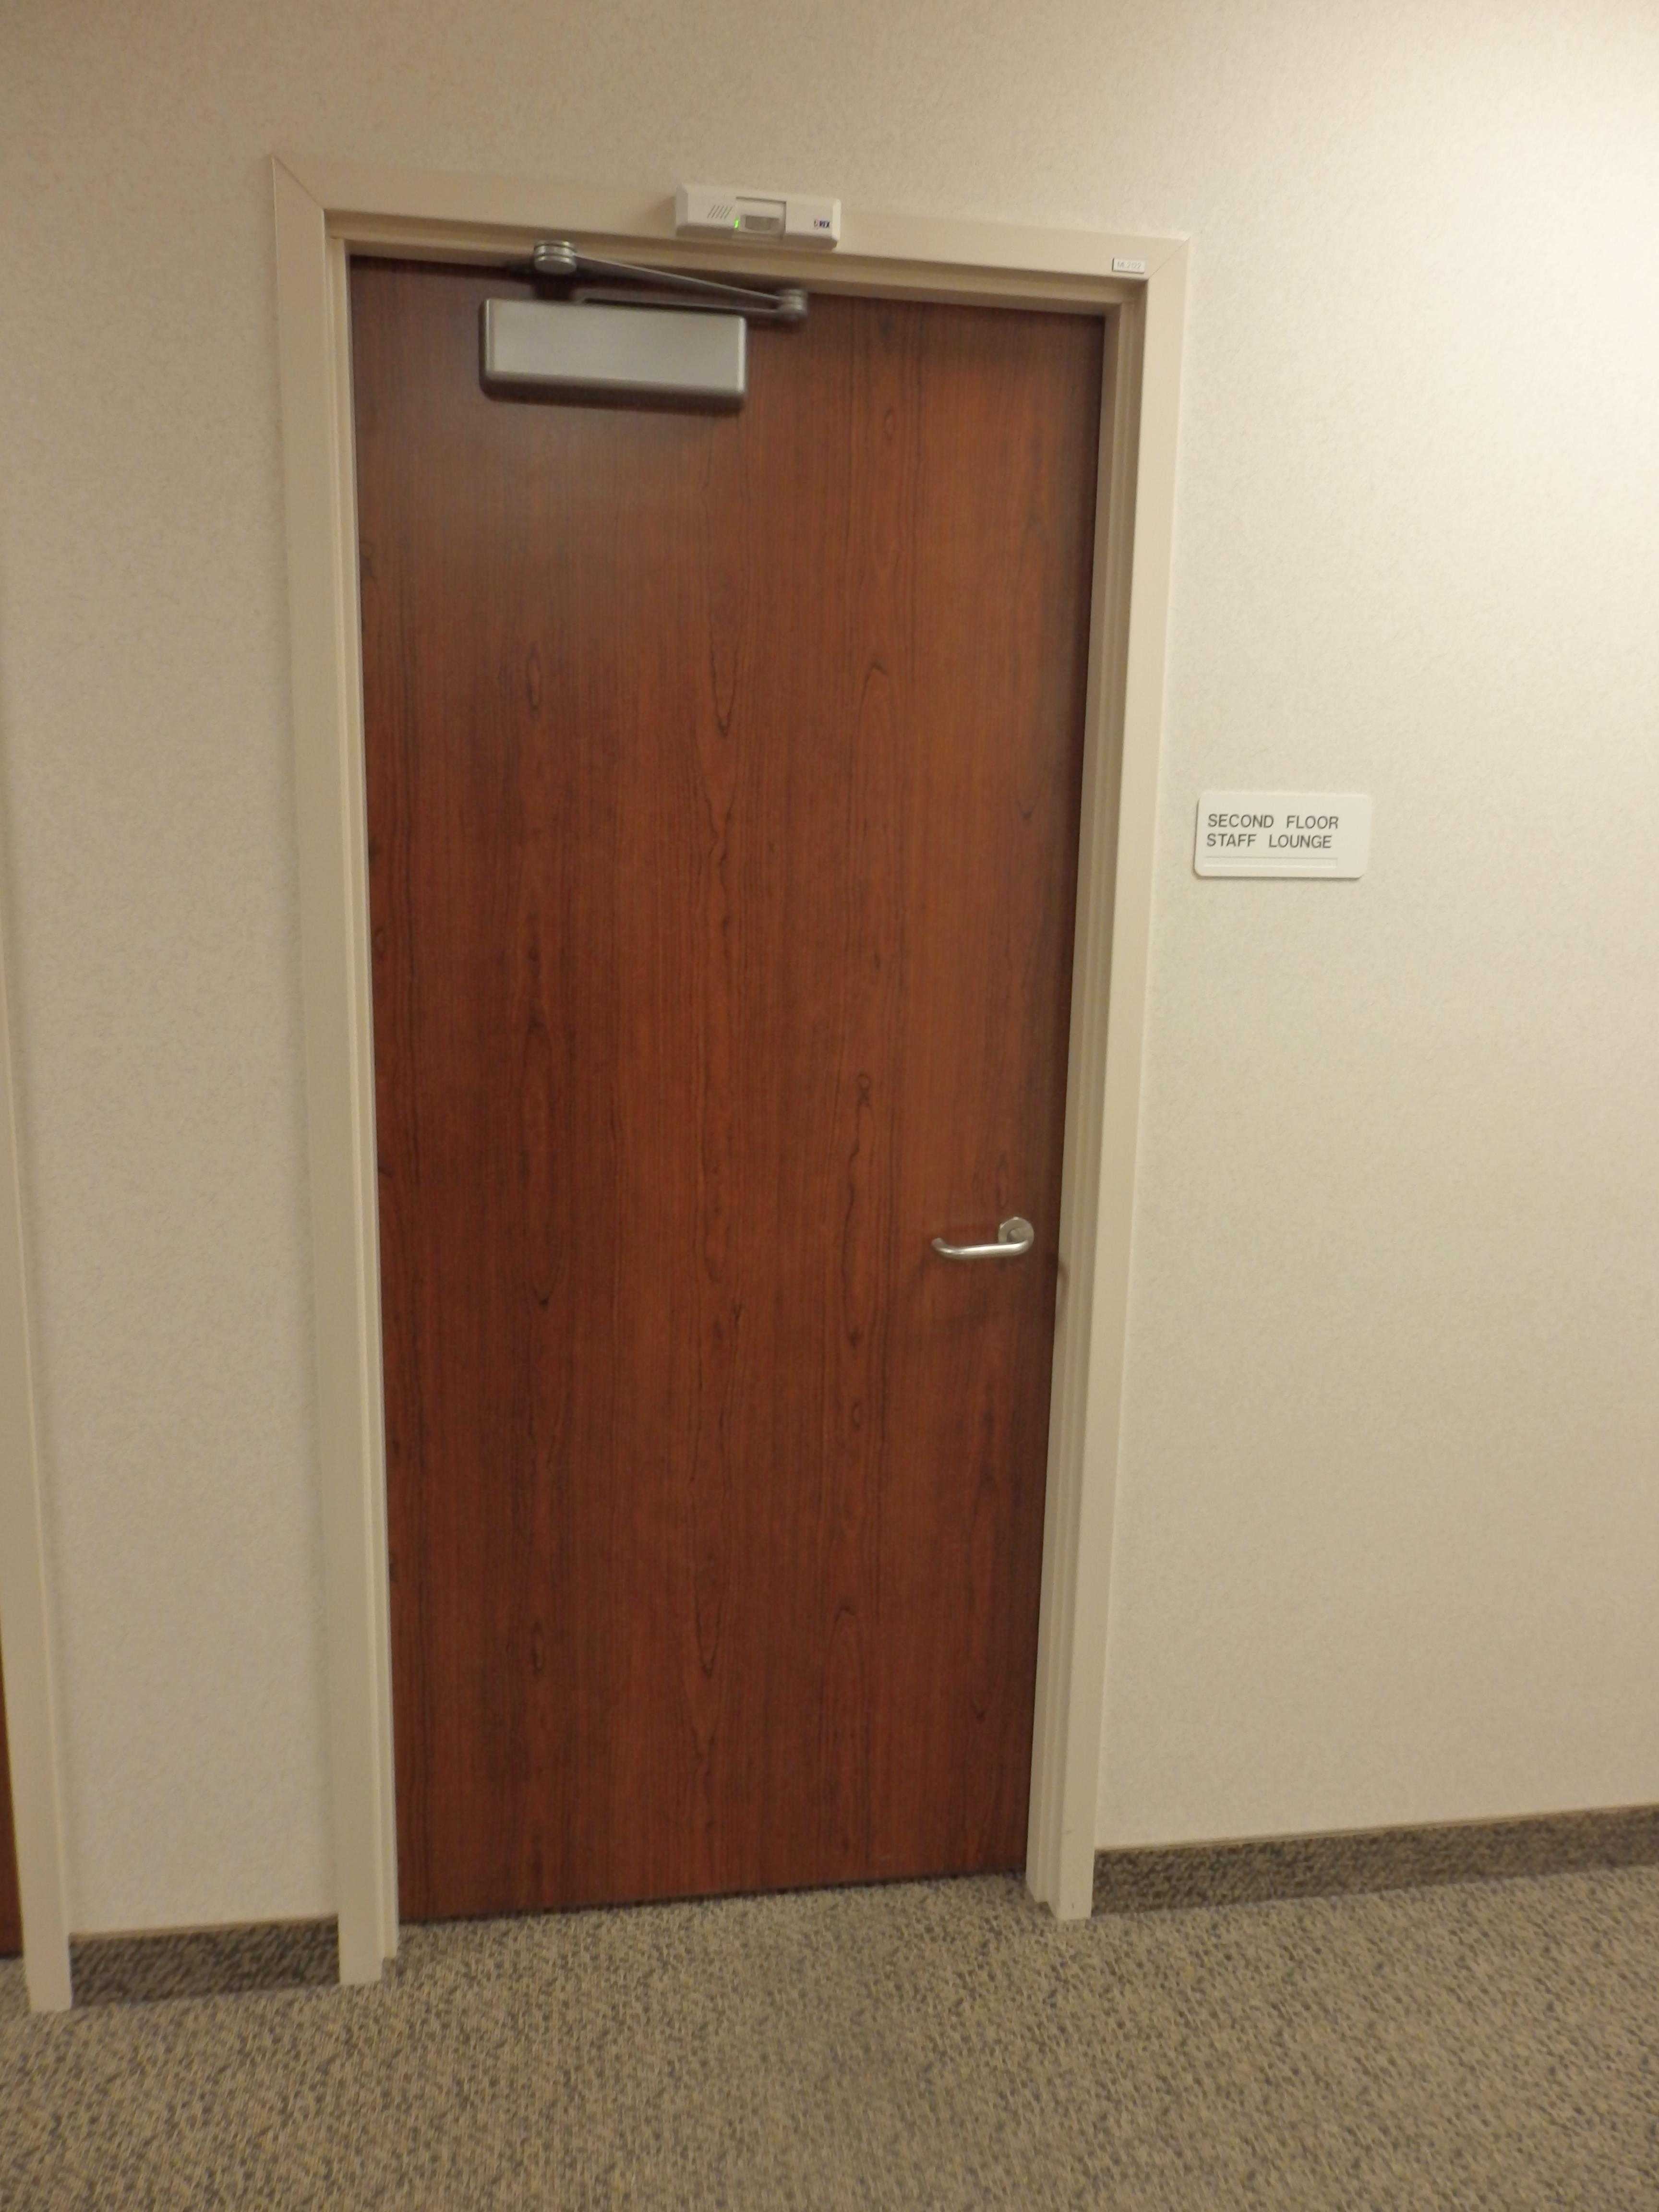door: (338, 233, 1047, 1898)
